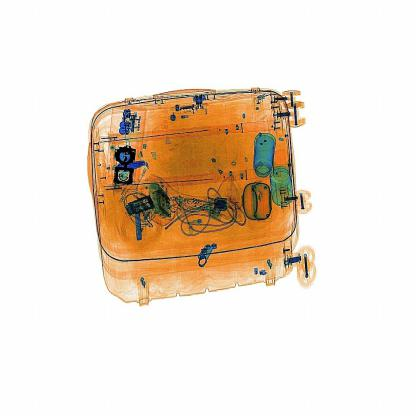knife: (110, 153, 149, 176)
